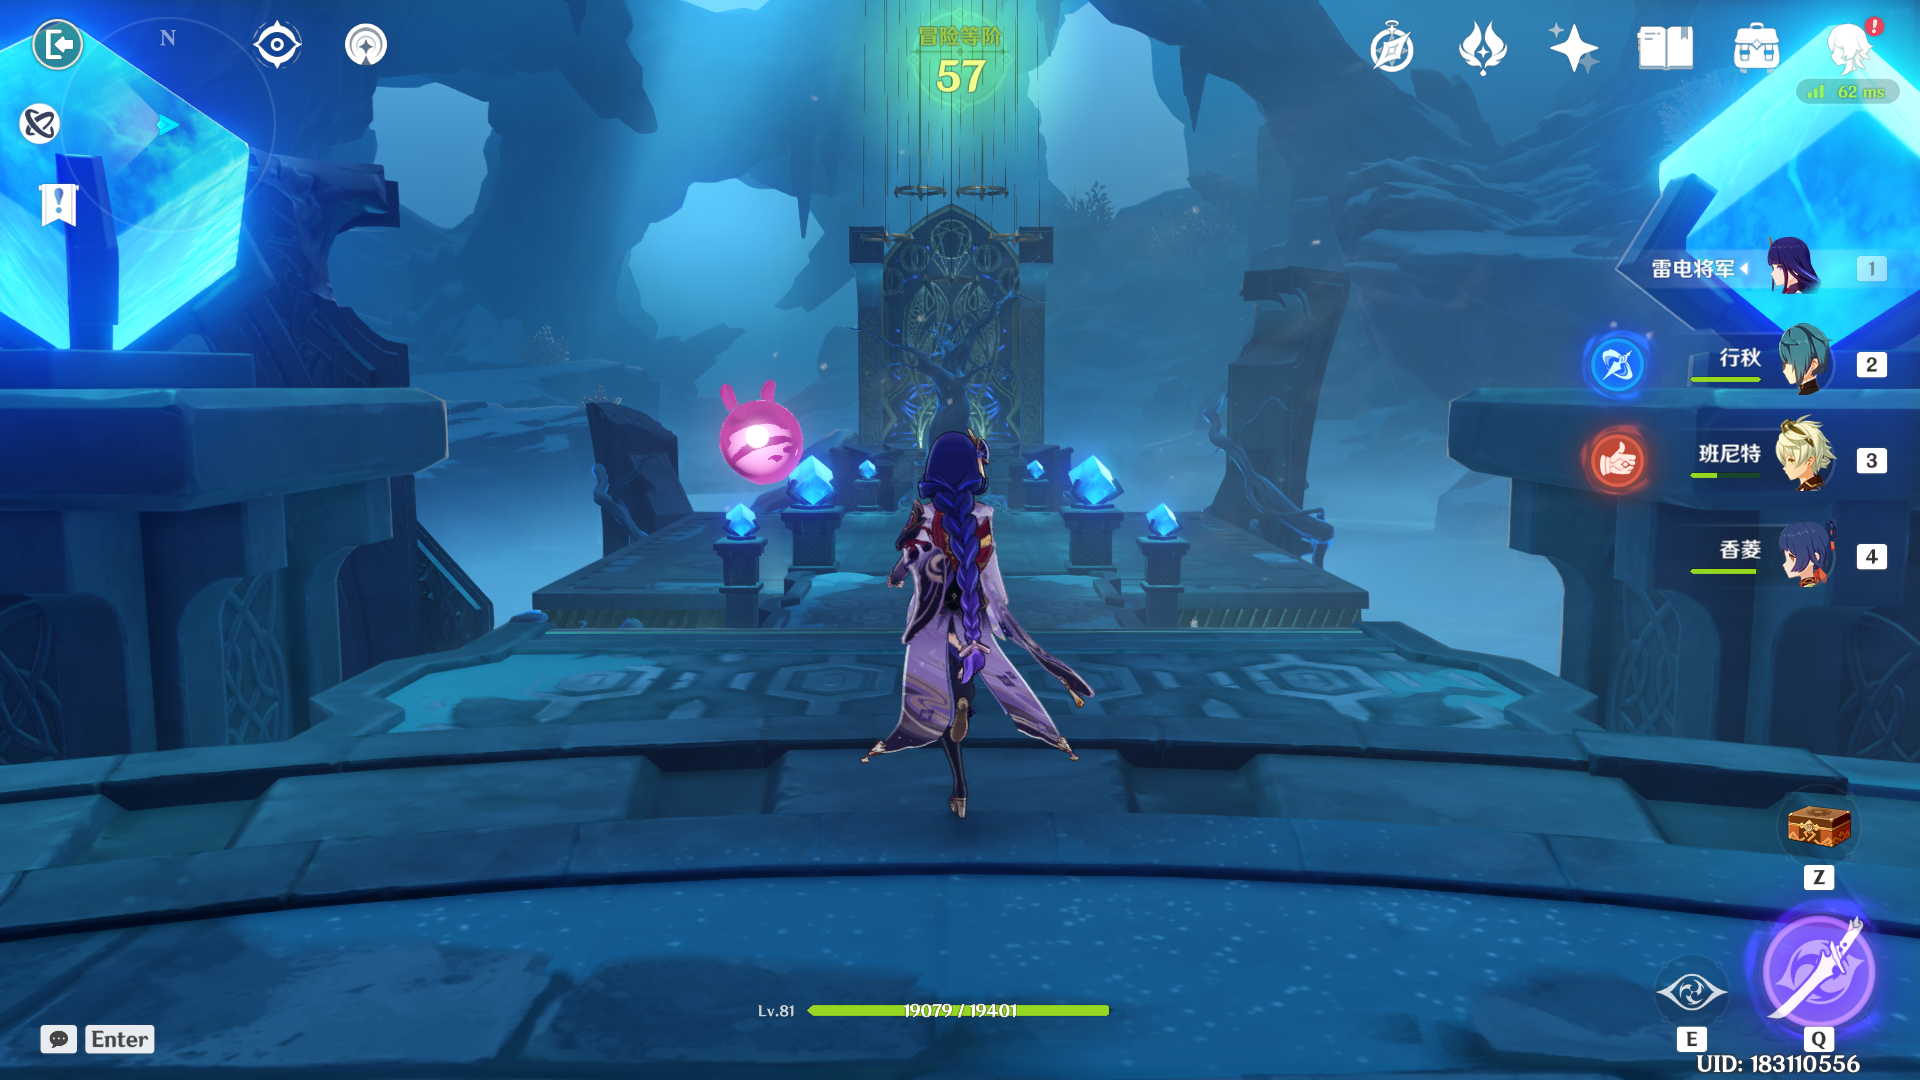character: (800, 396, 1138, 866)
